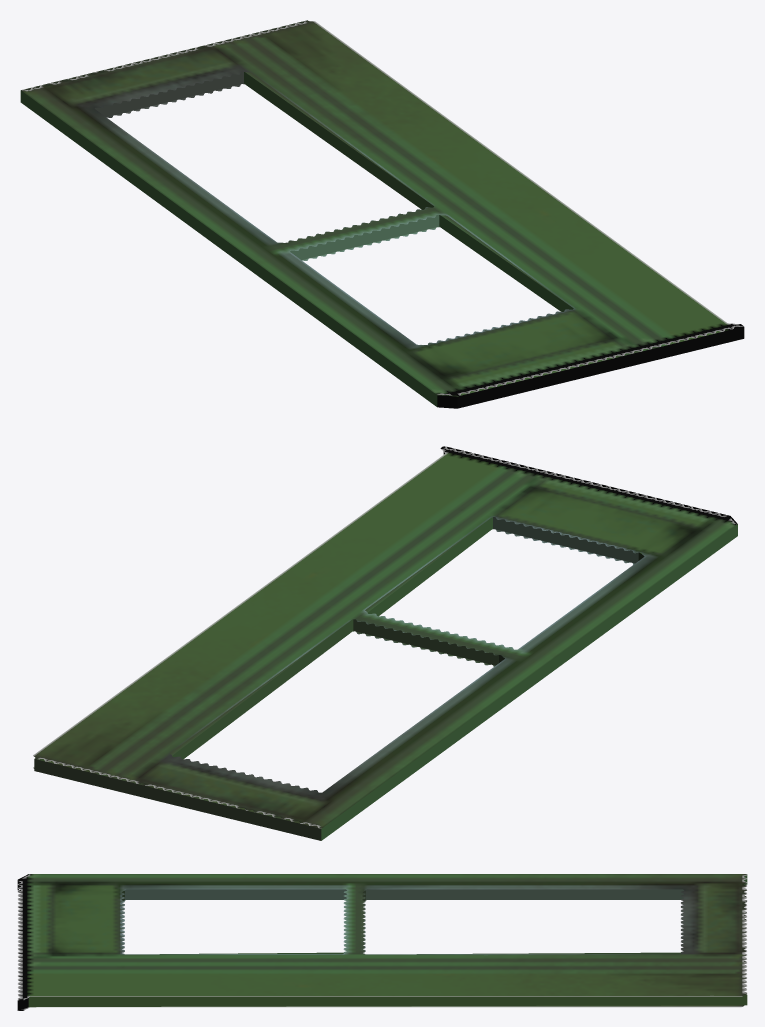
The model's file is pz_native_location_shop_greenes_01_19_frame.obj.
3 views of the same model, one above another, from view 1: azimuth 30°, elevation 25°; view 2: azimuth 150°, elevation 25°; view 3: azimuth 270°, elevation 25° (orthographic). The views are drawn at different scales.
Visible parts, largest first — view 1: pz_native_location_shop_greenes_01_19_frame; view 2: pz_native_location_shop_greenes_01_19_frame; view 3: pz_native_location_shop_greenes_01_19_frame.
Boxes of the visible parts, x1,y1,x2,y2 form: pz_native_location_shop_greenes_01_19_frame: (20,20,744,408); pz_native_location_shop_greenes_01_19_frame: (33,446,737,840); pz_native_location_shop_greenes_01_19_frame: (17,874,747,1010).
Bounding box in the file's own units: 1.06 × 0.04 × 2.54.
1 material, 1 textured.
